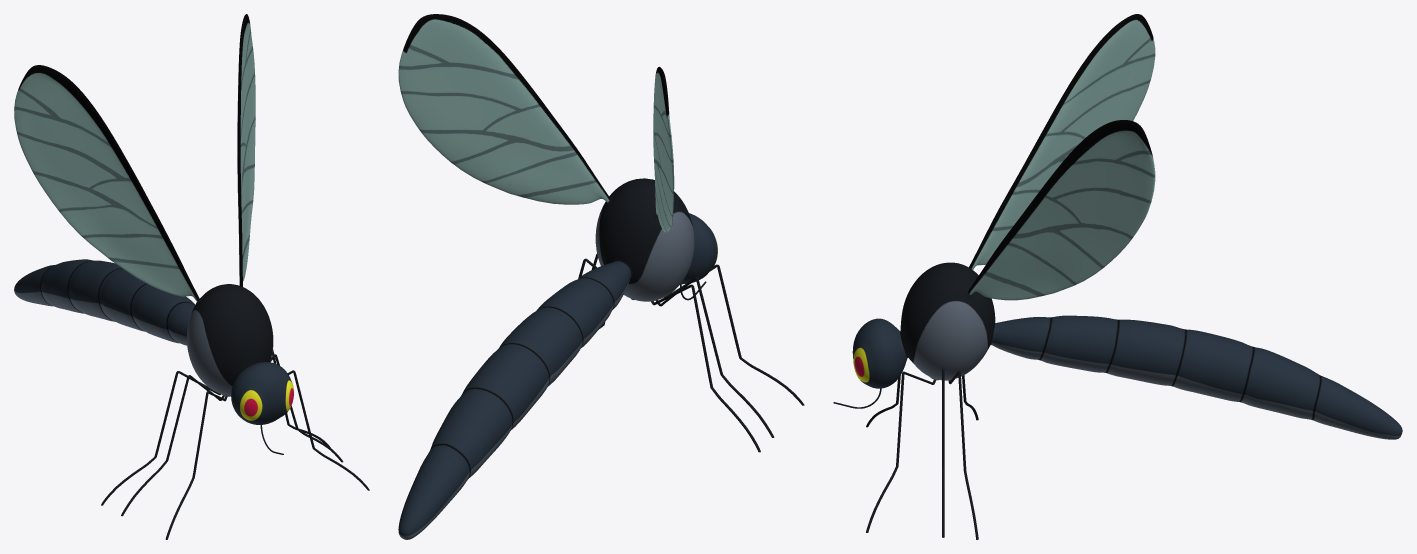
File: Mosquito.fbx
3 renders of one model, left to right at view 1: azimuth 30°, elevation 25°; view 2: azimuth 150°, elevation 25°; view 3: azimuth 270°, elevation 25°, orthographic. The views are drawn at different scales.
Visible parts, largest first — view 1: node_id5; view 2: node_id5; view 3: node_id5.
Part boxes in pixels (box(x1,y1,x2,y2)): node_id5: box(14, 14, 369, 539); node_id5: box(398, 14, 804, 539); node_id5: box(833, 14, 1402, 539).
Size of the model in its own units: 0.3347 by 0.512 by 0.6416.
Materials: 1 (1 with a texture image).
